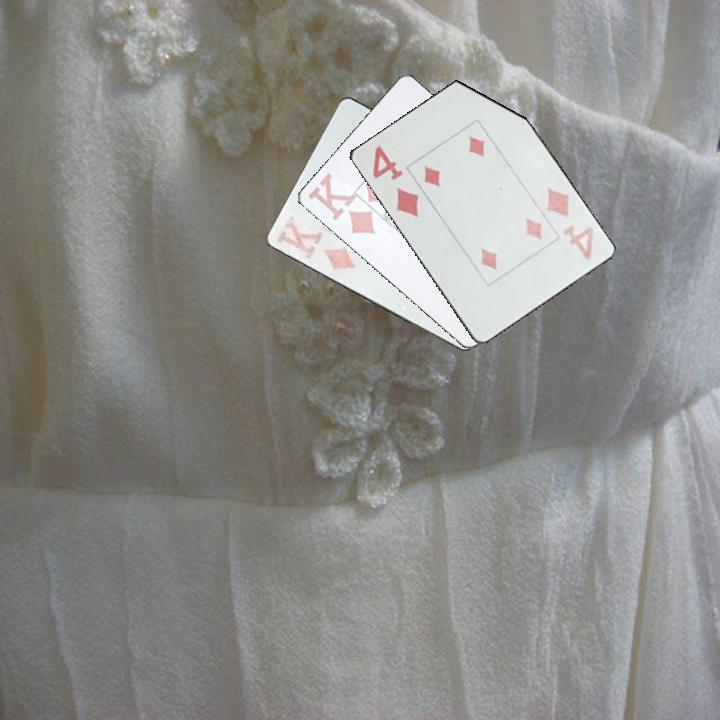4d: (543, 184, 597, 263), (368, 142, 422, 220)
Kd: (272, 212, 358, 275), (304, 171, 378, 238)
